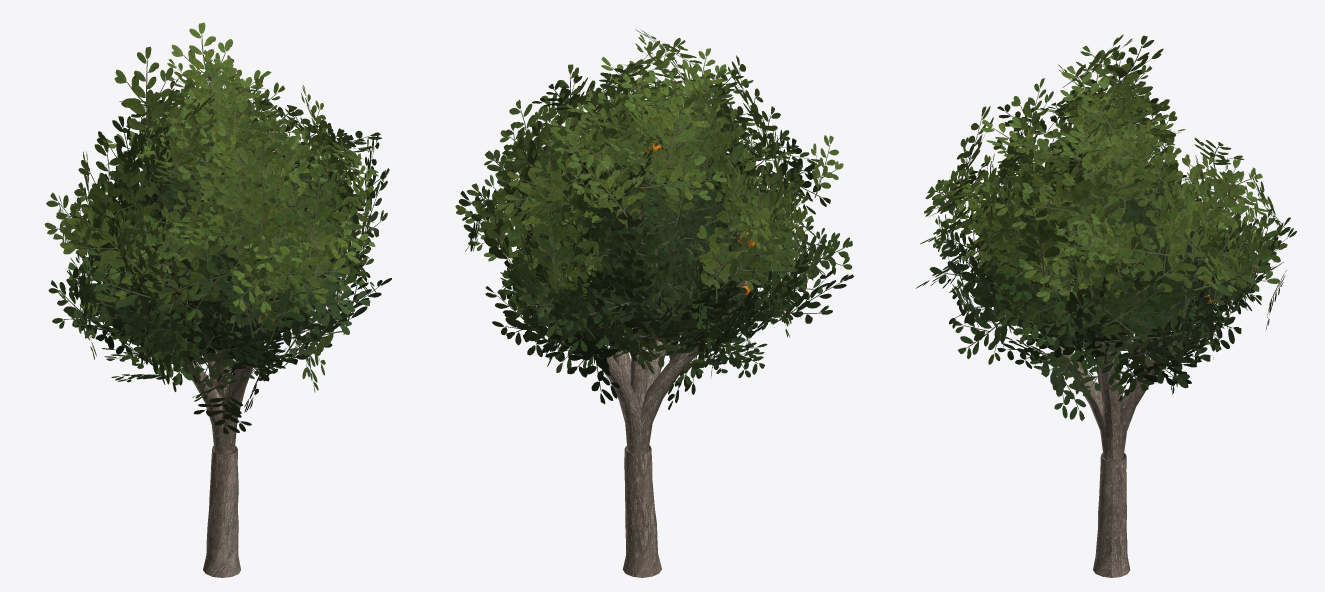
Rendered from naranjo_280.glb.
The picture shows the model from 3 angles, left to right: view 1: azimuth 30°, elevation 25°; view 2: azimuth 150°, elevation 25°; view 3: azimuth 270°, elevation 25°; orthographic projection. The views are drawn at different scales.
Visible parts, largest first — view 1: naranjo_280; view 2: naranjo_280; view 3: naranjo_280.
Boxes of the visible parts, x1=… form: naranjo_280: x1=44, y1=22, x2=391, y2=577; naranjo_280: x1=455, y1=29, x2=853, y2=577; naranjo_280: x1=916, y1=34, x2=1296, y2=577.
Bounding box in the file's own units: 2 × 2.8 × 2.
3 materials, 2 textured.
